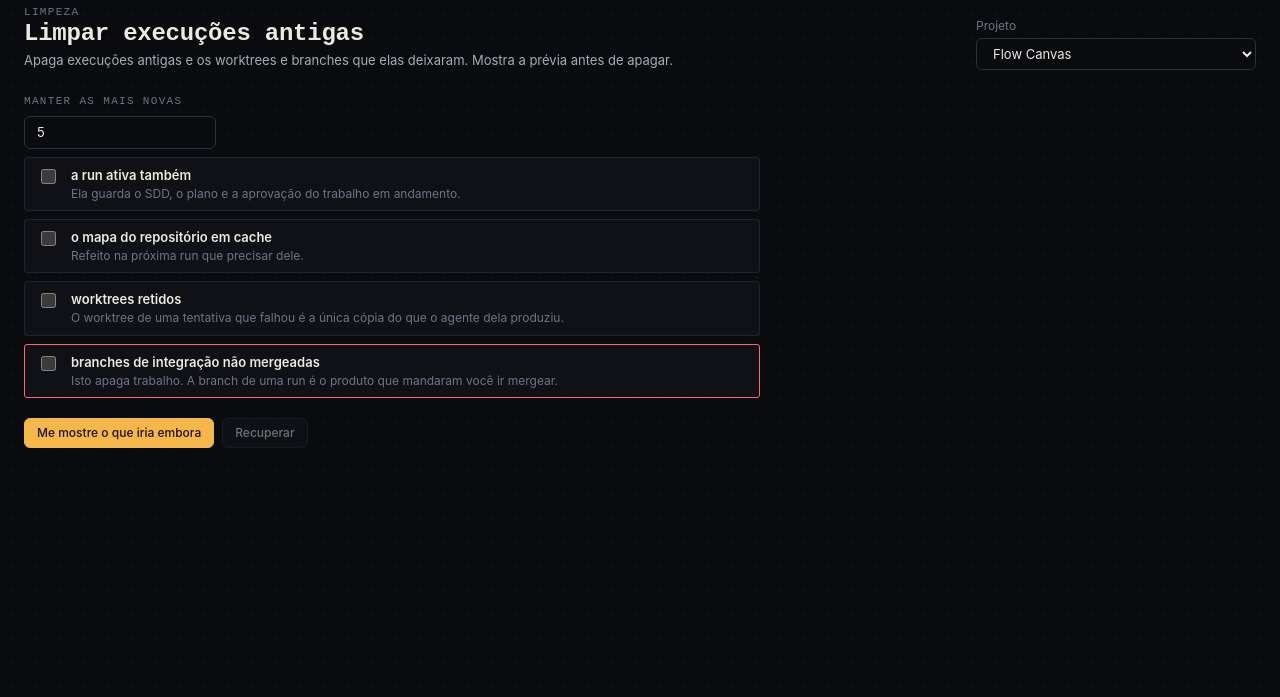
Test case: the clean page › names what would go, and what is kept and why
The image size is (1280, 697).
Click the button "Me mostre o que iria embora".
click(119, 433)  # box [24,418,214,448]
(page scrolled)
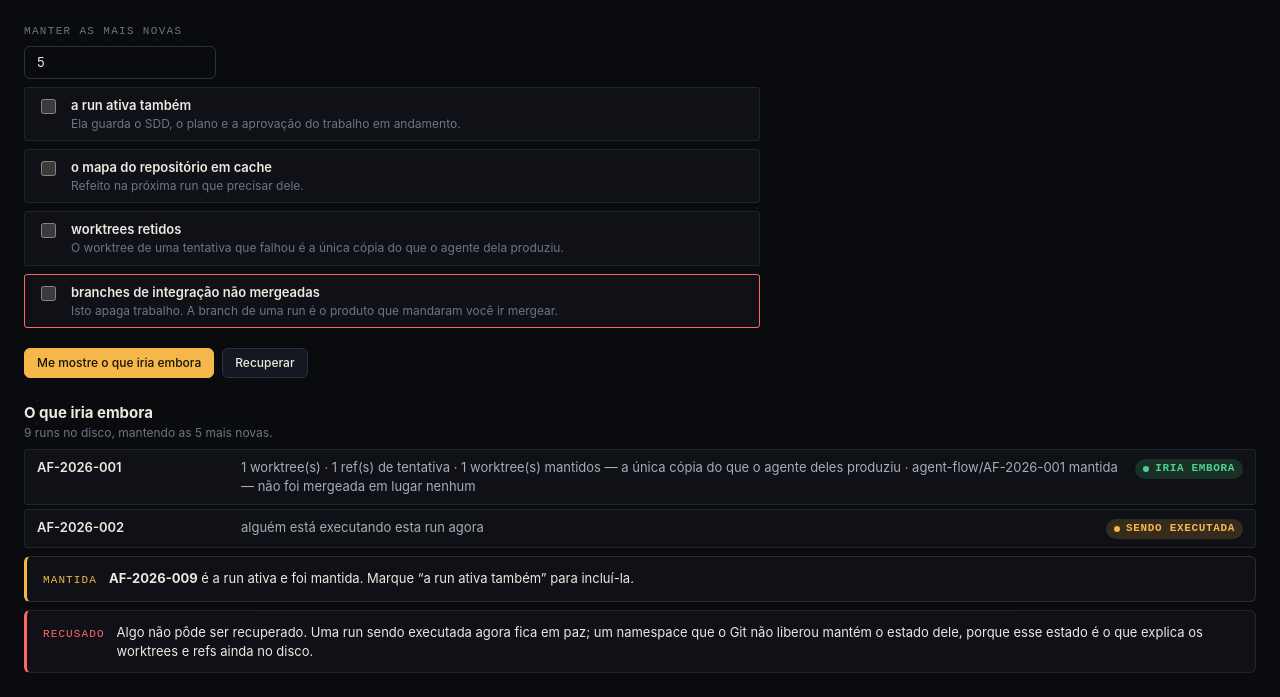
Check: the list item that starts with "AF-2026-002" shows "sendo executada", box [1126,522,1235,534]
Check: the element labelled "O que iria embora" shows "AF-2026-009", box [109,570,198,586]
